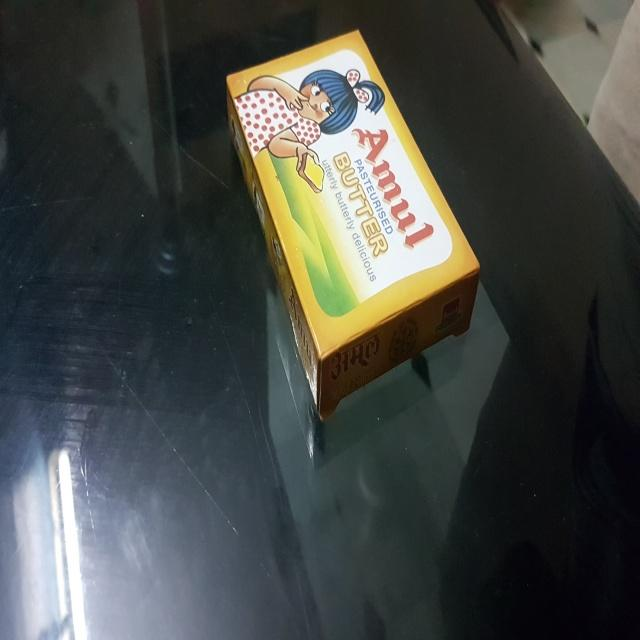butter: (217, 26, 491, 402)
